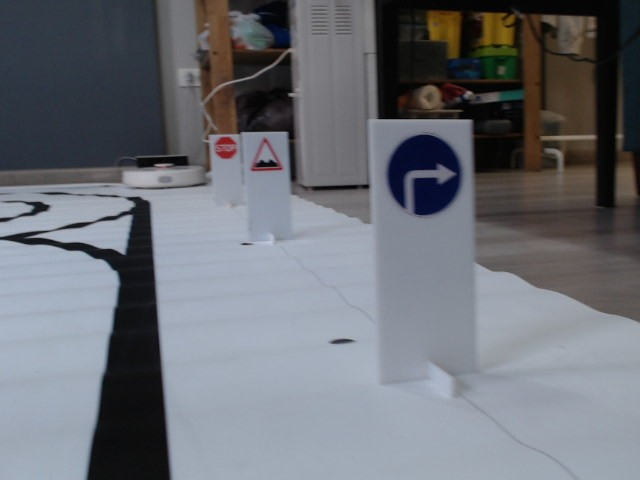Nerov: (250, 137, 285, 171)
Right: (385, 132, 463, 216)
Stop: (214, 136, 238, 159)
